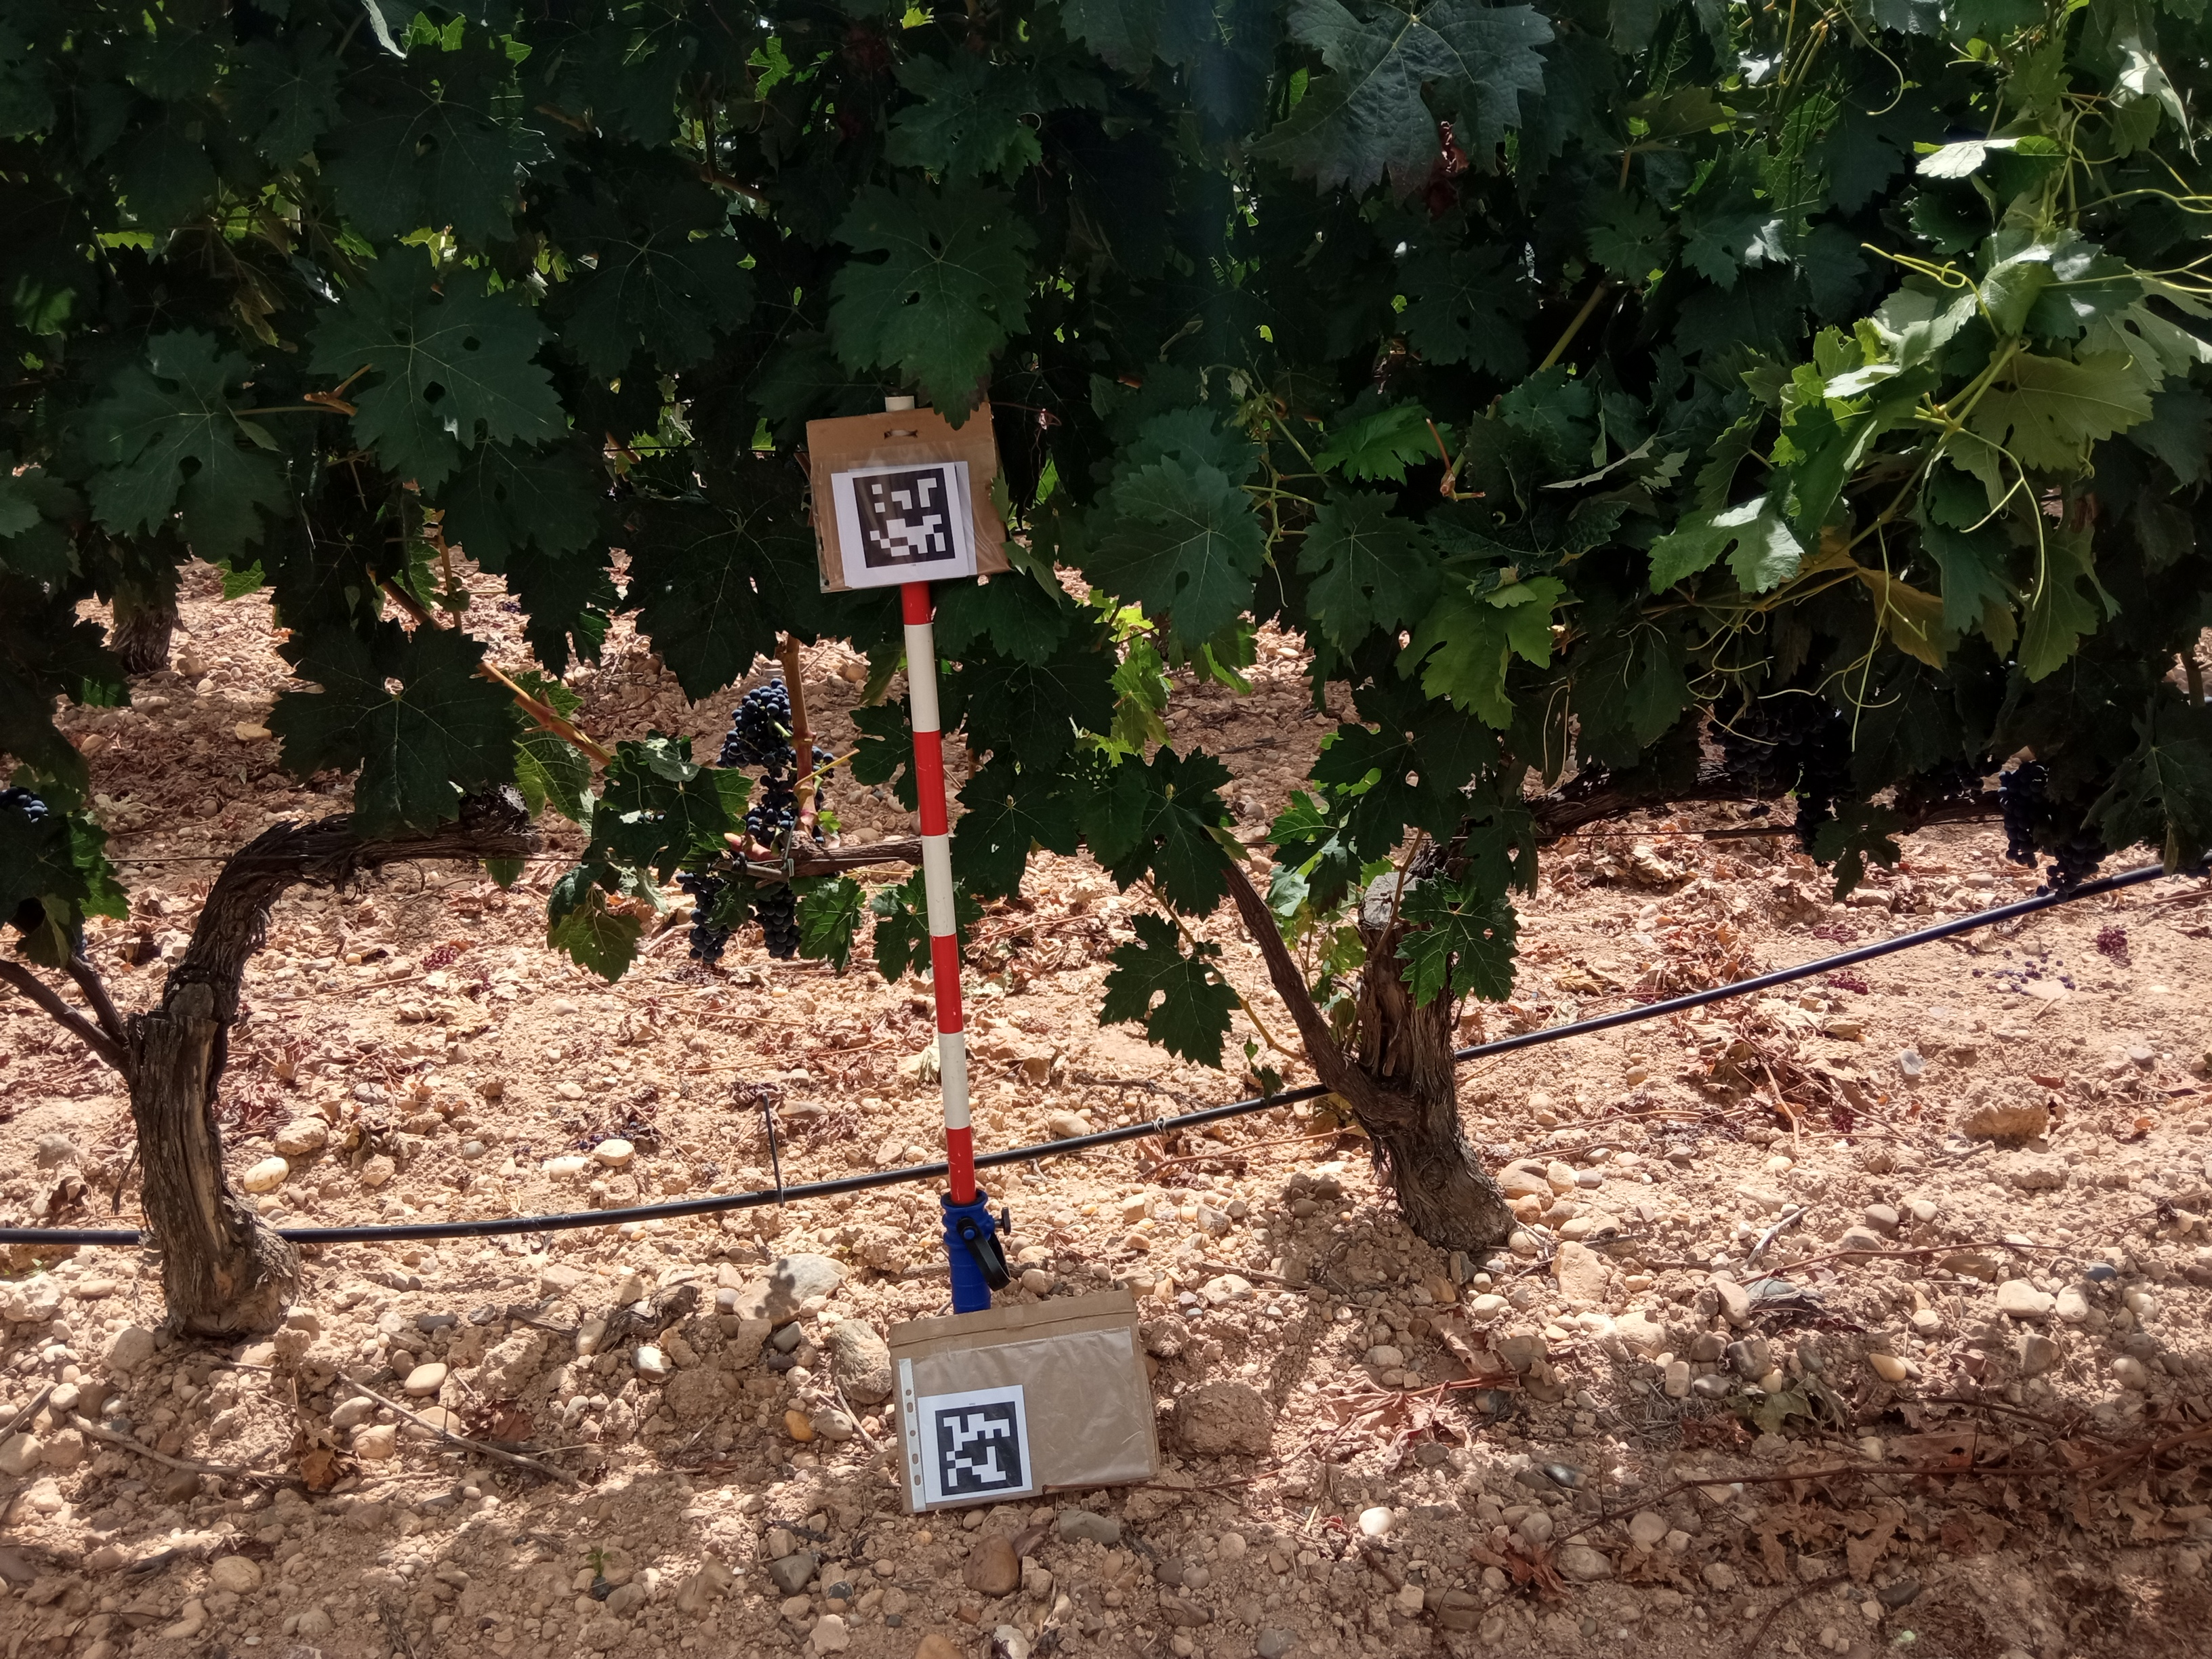grapes: (712, 674, 838, 850), (1703, 692, 1804, 823), (1787, 711, 1864, 871), (2034, 774, 2111, 906), (1892, 748, 2001, 838), (672, 864, 744, 965), (1994, 753, 2054, 871), (745, 875, 806, 965), (2155, 826, 2212, 884), (0, 782, 56, 823), (430, 573, 475, 617), (14, 894, 49, 939), (611, 467, 651, 505)
